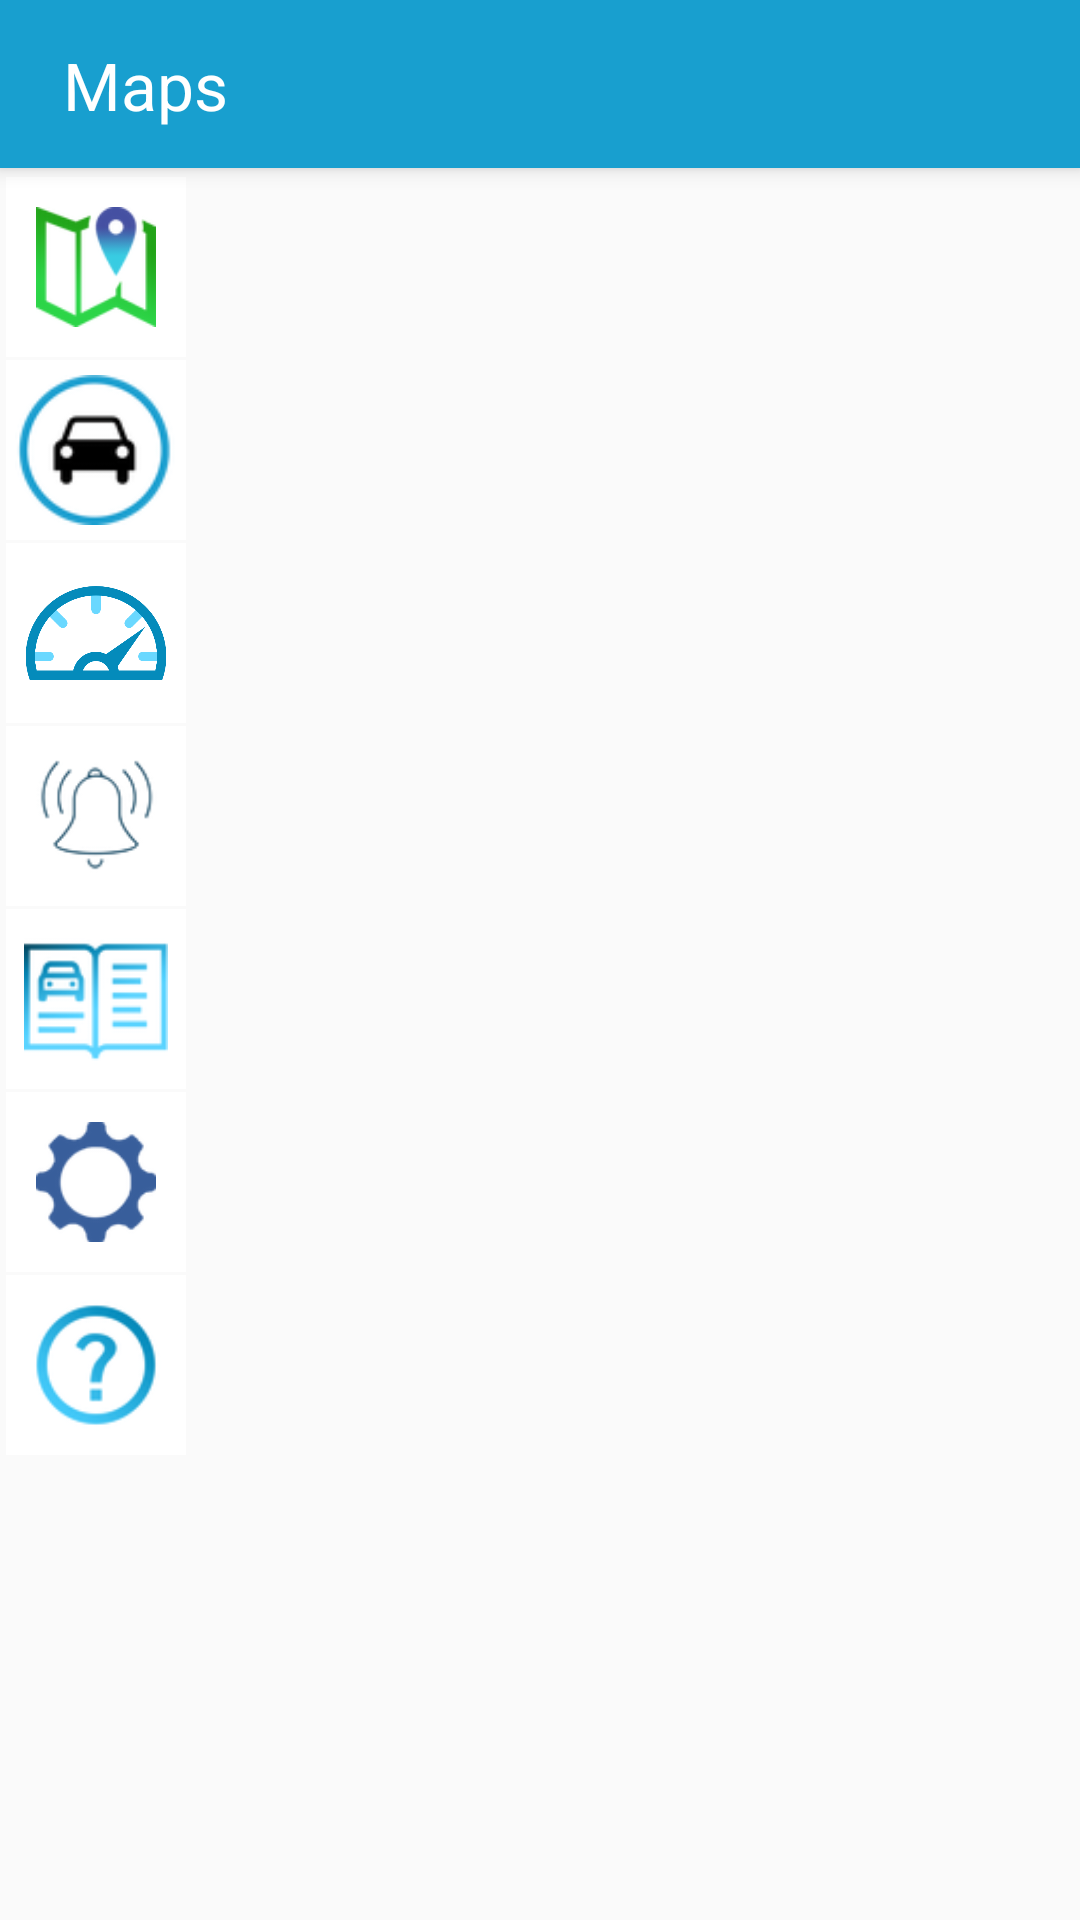

Locate icon controls on the screen. Image size 1080w x 1920h, boxes as (x1, y1, x2, y2).
alert: (41, 761, 153, 869)
car: (19, 375, 171, 525)
config: (36, 1122, 156, 1242)
help: (36, 1305, 156, 1425)
